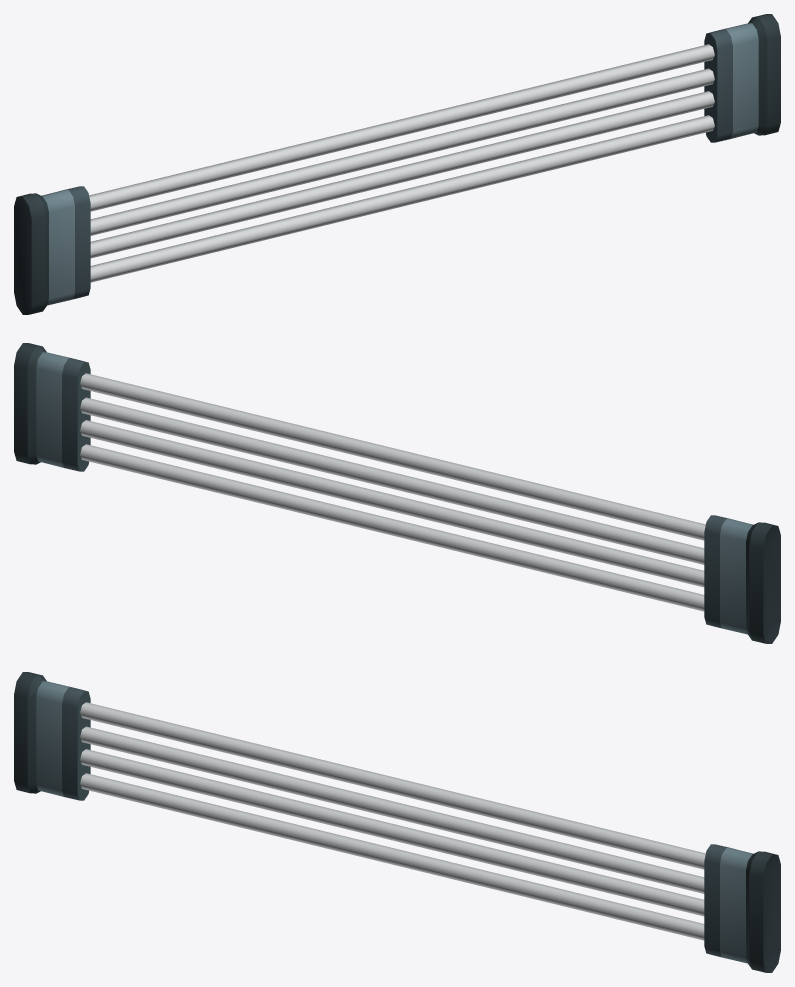
Rendered from Cable_type_B_003.fbx.
The picture shows the model from 3 angles, top to bottom: view 1: azimuth 30°, elevation 25°; view 2: azimuth 150°, elevation 25°; view 3: azimuth 330°, elevation 25°; orthographic projection.
Visible parts, largest first — view 1: Cable_type_B_003; view 2: Cable_type_B_003; view 3: Cable_type_B_003.
Boxes of the visible parts, left/top/right/bottom form: Cable_type_B_003: left=14, top=14, right=780, bottom=314; Cable_type_B_003: left=14, top=343, right=780, bottom=643; Cable_type_B_003: left=14, top=672, right=780, bottom=972.
Bounding box in the file's own units: 191 × 7.83 × 28.83.
